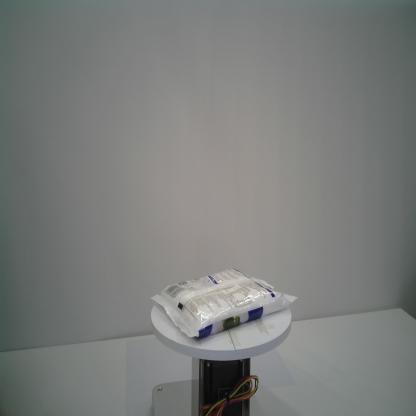Seasoner: (148, 268, 299, 340)
